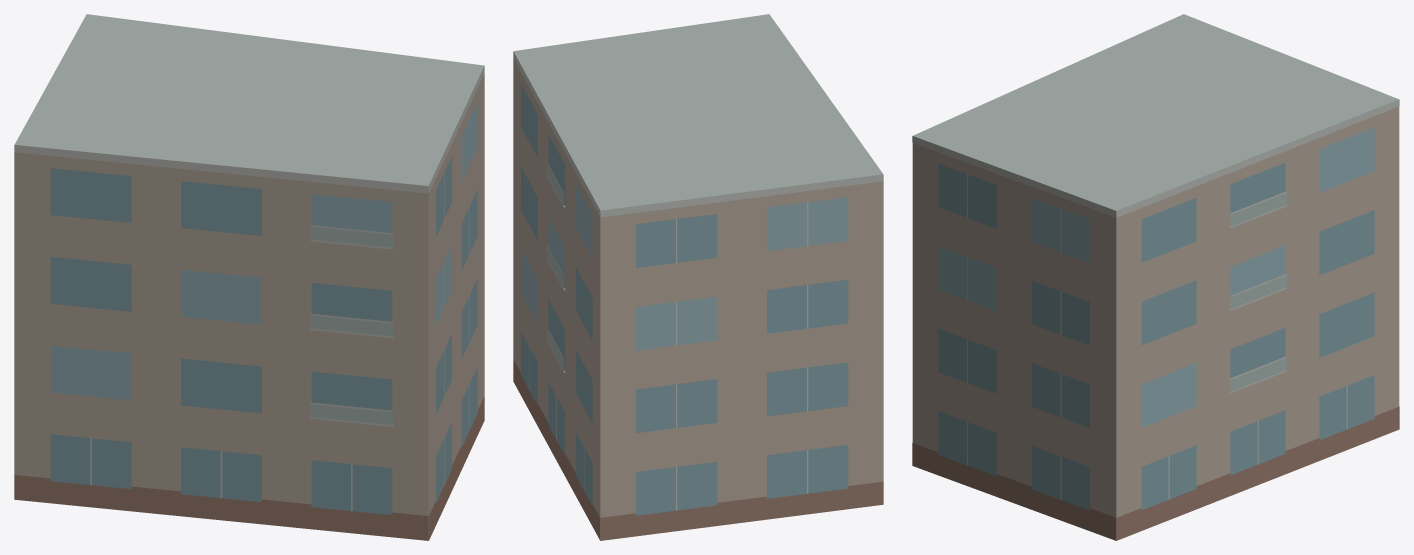
File: survey-upis-32910527.glb
3 renders of one model, left to right at view 1: azimuth 30°, elevation 25°; view 2: azimuth 150°, elevation 25°; view 3: azimuth 270°, elevation 25°, orthographic. The views are drawn at different scales.
Parts seen in each view (by area): view 1: survey-upis-32910527.tmp; view 2: survey-upis-32910527.tmp; view 3: survey-upis-32910527.tmp.
Boxes of the visible parts, bbox=[...] form: survey-upis-32910527.tmp: bbox=[14, 14, 484, 540]; survey-upis-32910527.tmp: bbox=[513, 14, 883, 540]; survey-upis-32910527.tmp: bbox=[912, 14, 1399, 540].
Bounding box in the file's own units: 14.85 × 11.6 × 15.52.
